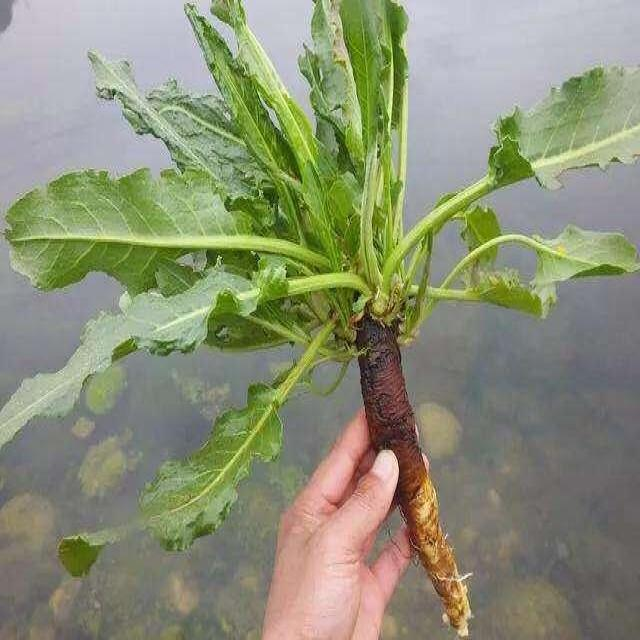-Kitchen waste - vegetable roots and leaves-: (63, 398, 283, 570), (8, 170, 284, 296), (2, 310, 208, 454), (89, 53, 249, 180), (476, 66, 638, 191), (340, 0, 392, 145), (543, 225, 633, 298)
